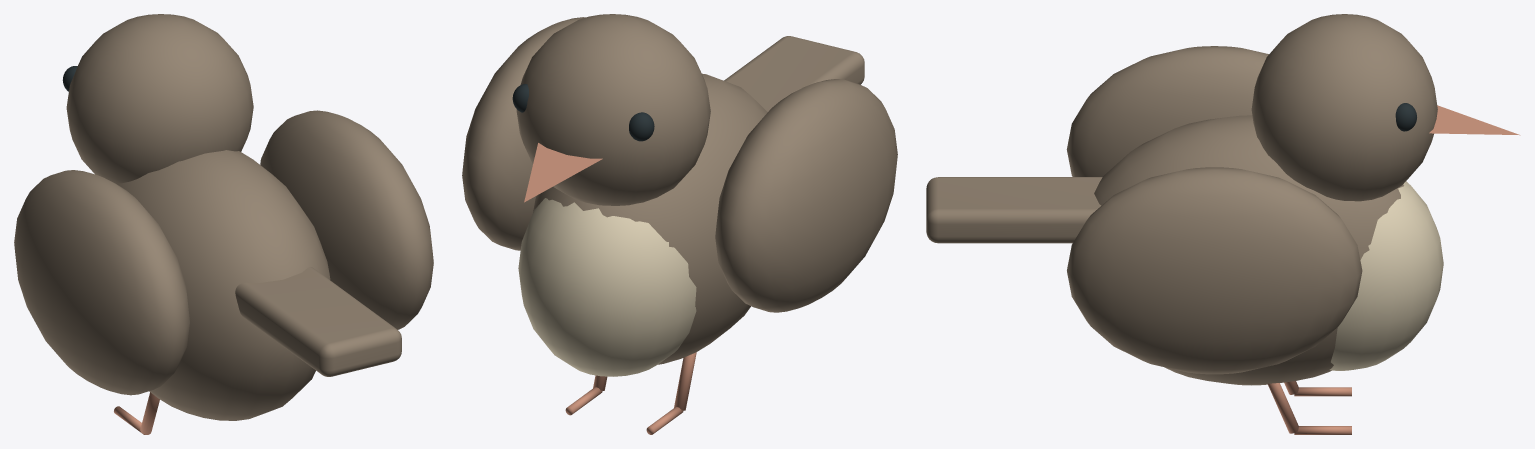
File: campus_sparrow.glb
The picture shows the model from 3 angles, left to right: view 1: azimuth 30°, elevation 25°; view 2: azimuth 150°, elevation 25°; view 3: azimuth 270°, elevation 25°; orthographic projection. The views are drawn at different scales.
Visible parts, largest first — view 1: BirdBody, Wing, Wing.001, Beak; view 2: BirdBody, Wing, BirdBreast, Wing.001, Beak, BirdEye; view 3: BirdBody, Wing.001, Wing, BirdBreast, Beak.
Boxes of the visible parts, bbox=[...] form: BirdBody: bbox=[66, 14, 401, 420]; Wing: bbox=[14, 170, 189, 395]; Wing.001: bbox=[260, 110, 433, 329]; Beak: bbox=[114, 392, 159, 434]; BirdBody: bbox=[516, 14, 864, 364]; Wing: bbox=[715, 79, 897, 312]; BirdBreast: bbox=[518, 198, 696, 376]; Wing.001: bbox=[462, 17, 585, 250]; Beak: bbox=[524, 143, 696, 434]; BirdEye: bbox=[512, 84, 654, 141]; BirdBody: bbox=[926, 14, 1437, 385]; Wing.001: bbox=[1067, 167, 1362, 374]; Wing: bbox=[1066, 46, 1268, 176]; BirdBreast: bbox=[1329, 181, 1443, 370]; Beak: bbox=[1267, 105, 1520, 434].
Bounding box in the file's own units: 0.274 × 0.293 × 0.402.
